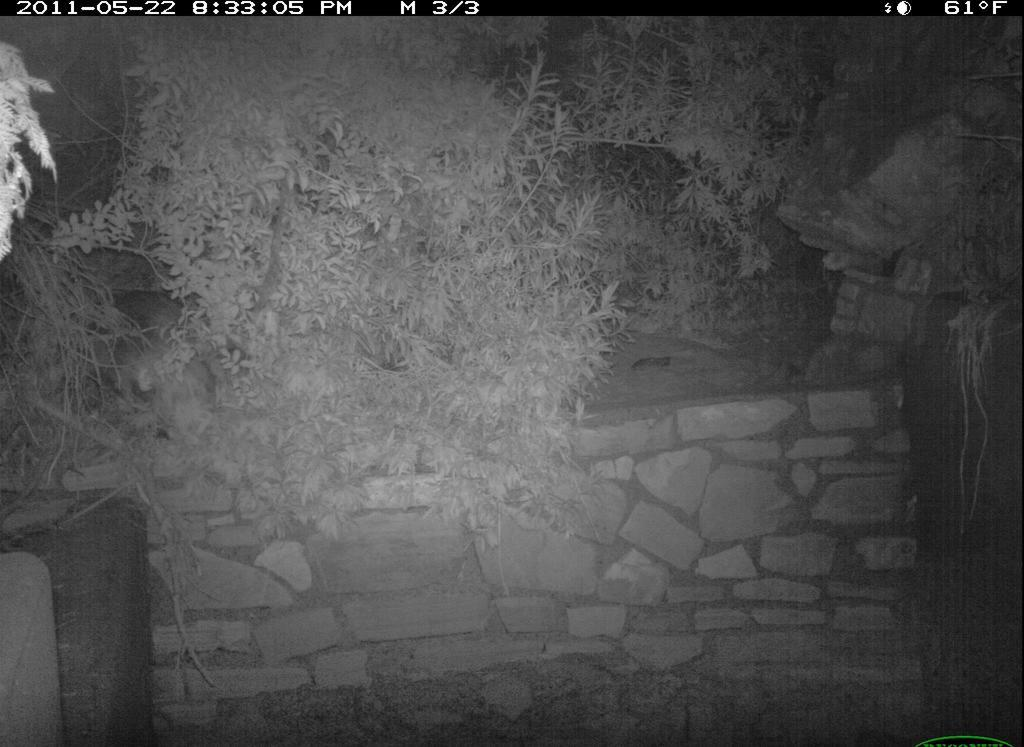raccoon: (57, 290, 218, 409)
